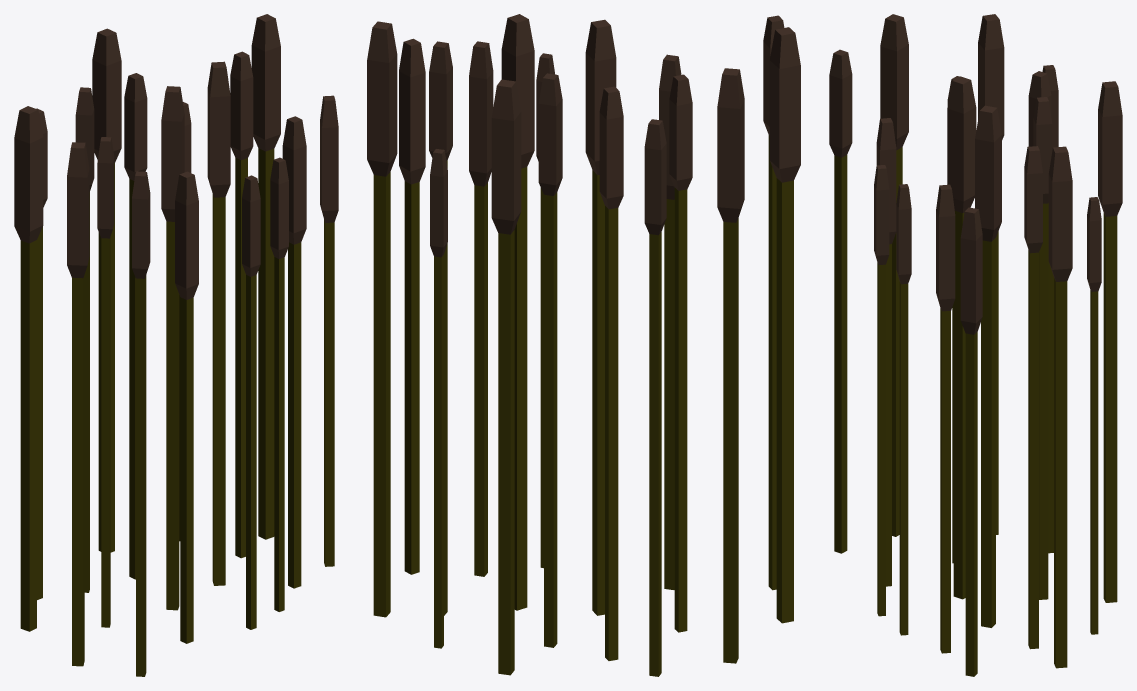
The model's file is Reed Multi.fbx.
The picture shows the model from 3 angles, left to right: view 1: azimuth 30°, elevation 25°; view 2: azimuth 150°, elevation 25°; view 3: azimuth 270°, elevation 25°; orthographic projection. The views are drawn at different scales.
Visible parts, largest first — view 1: Reed Multi; view 2: Reed Multi; view 3: Reed Multi.
Part boxes in pixels (x1,y1,x2,y2): Reed Multi: (14,14,338,676); Reed Multi: (367,14,800,676); Reed Multi: (829,14,1122,676).
Size of the model in its own units: 1.73 by 2.75 by 1.42.
